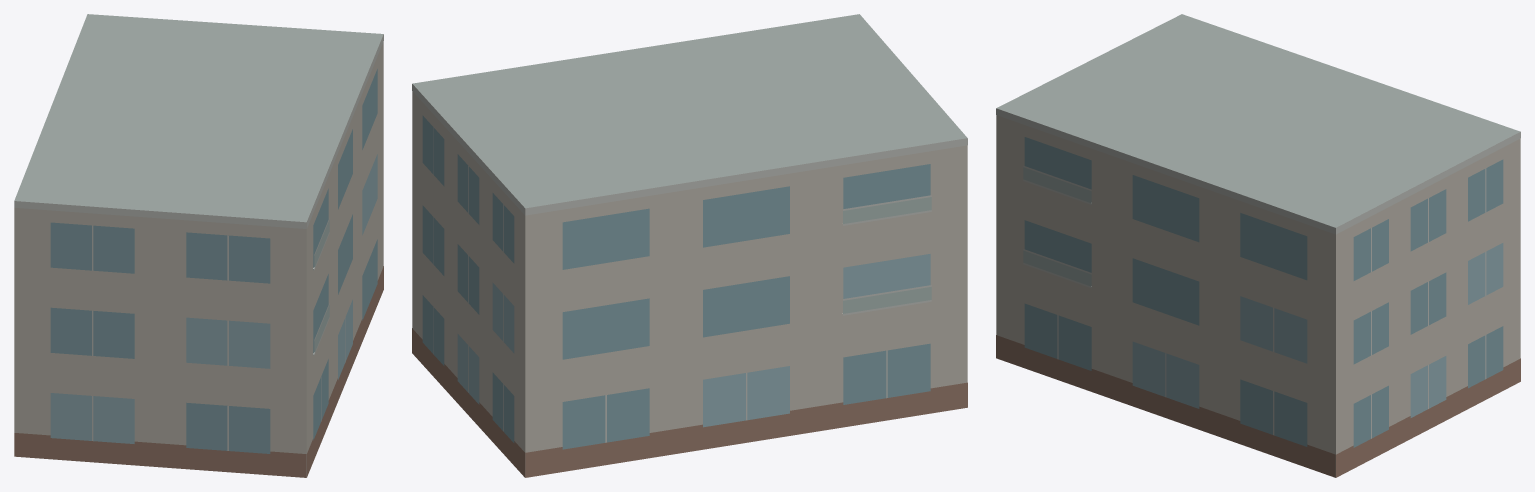
File: survey-upis-32585315.glb
The picture shows the model from 3 angles, left to right: view 1: azimuth 30°, elevation 25°; view 2: azimuth 150°, elevation 25°; view 3: azimuth 270°, elevation 25°; orthographic projection. The views are drawn at different scales.
Parts seen in each view (by area): view 1: survey-upis-32585315.tmp; view 2: survey-upis-32585315.tmp; view 3: survey-upis-32585315.tmp.
Boxes of the visible parts, x1,y1,x2,y2 form: survey-upis-32585315.tmp: [14, 14, 383, 477]; survey-upis-32585315.tmp: [412, 14, 967, 477]; survey-upis-32585315.tmp: [996, 14, 1520, 477].
Bounding box in the file's own units: 16.8 × 9.15 × 17.41.
